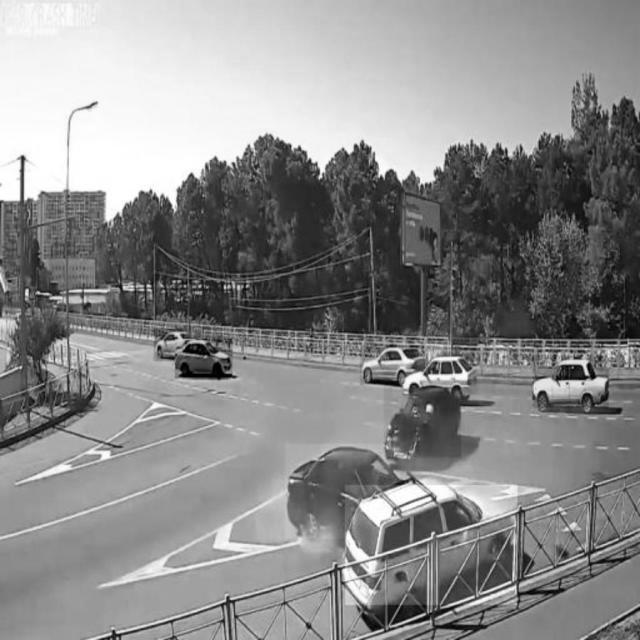vehicle: (345, 485, 517, 605), (285, 444, 395, 538), (384, 385, 461, 458), (533, 356, 609, 408), (405, 356, 478, 404), (360, 345, 418, 385), (176, 339, 233, 379), (154, 329, 184, 361)
